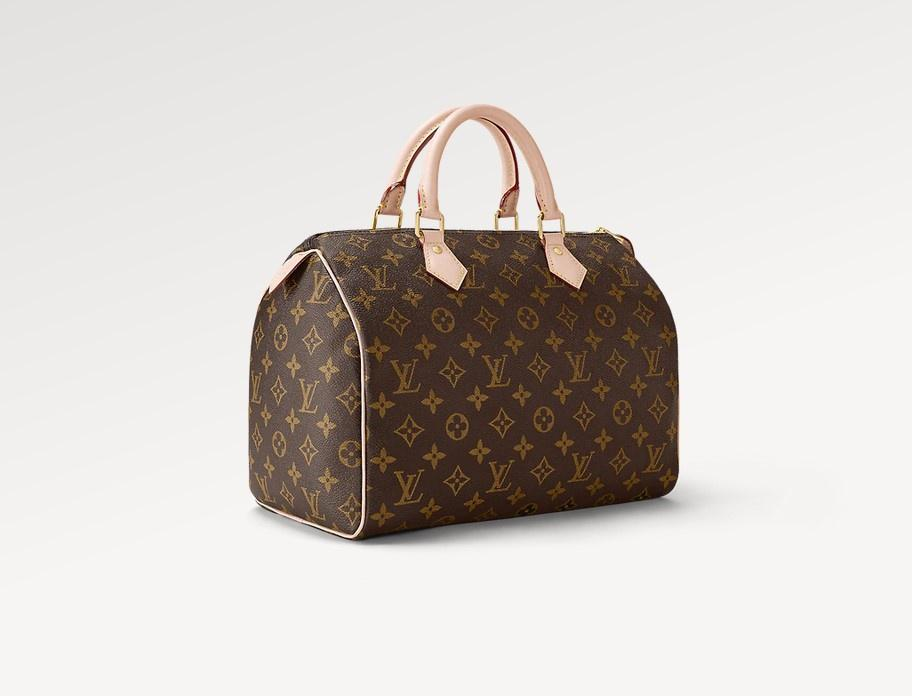LOUIS-VUITTON: (251, 229, 682, 537)
